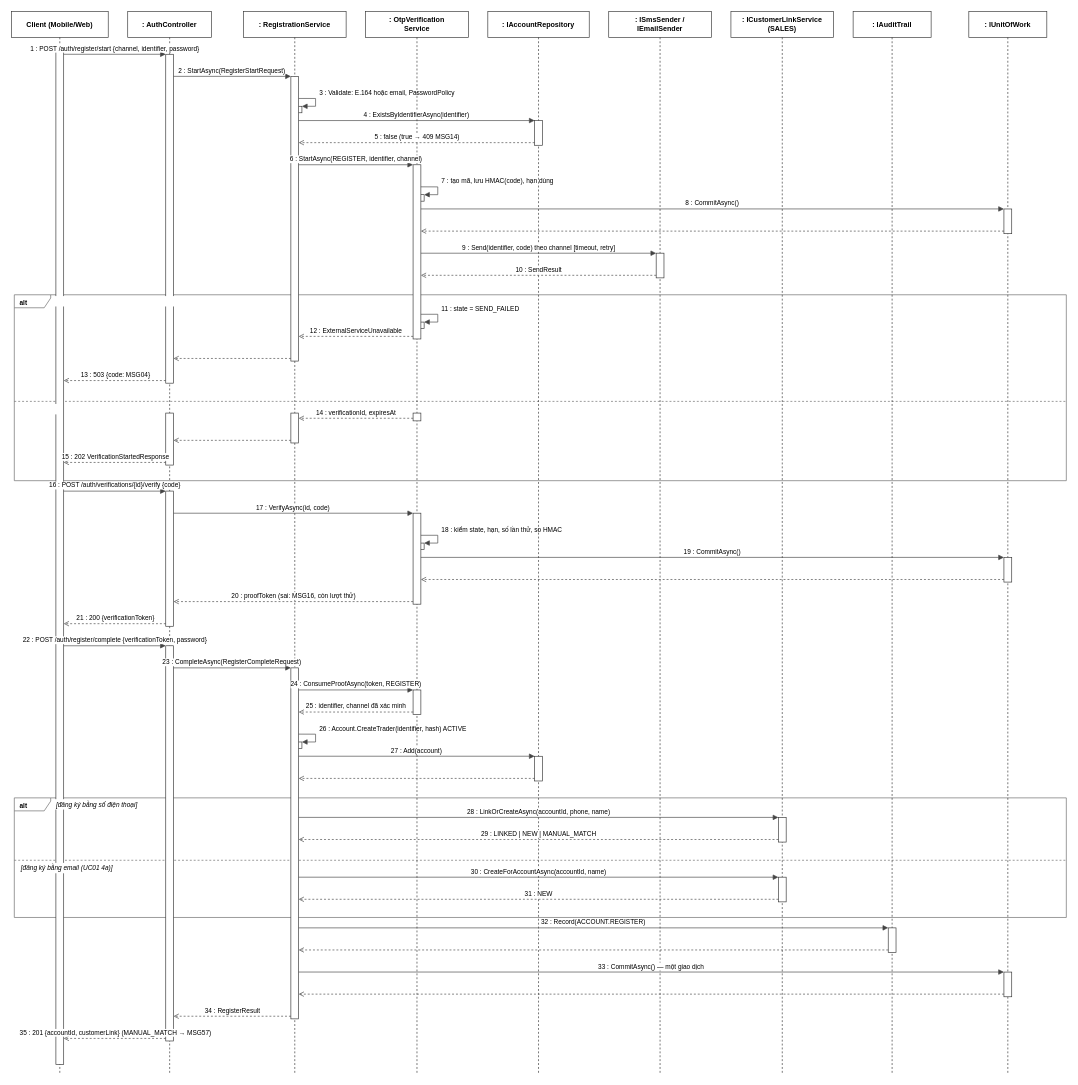
This 1078x1085 diagram has some shape labels left out. The centre of each missing label's shape, as x and y in pixels:
"[gửi được]" goes at point (38, 409).
"[nhà cung cấp lỗi / hết thời gian chờ]" goes at point (125, 301).
